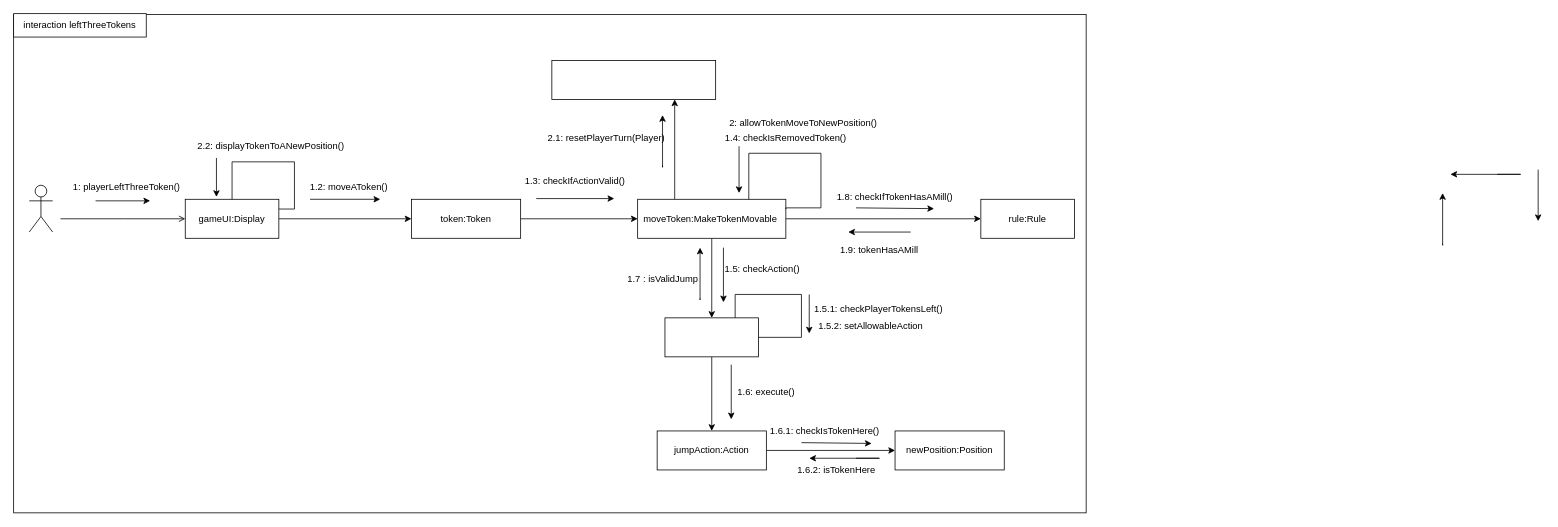
This 1558x527 diagram has some shape labels left out. The centre of each missing label's shape, as x and y in pixels:
"Player" goes at (40,208).
"player:Player" goes at (711,337).
"resetPlayerTurn:ResetPlayerTurn" goes at (633,79).
